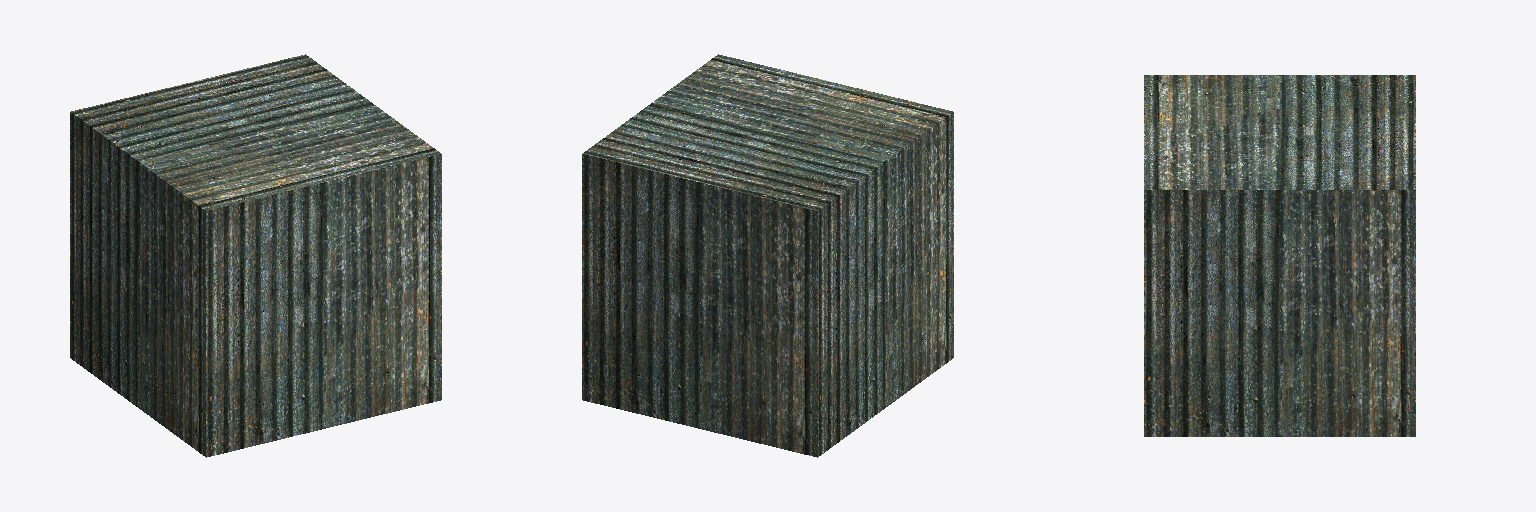
The picture shows the model from 3 angles: view 1: azimuth 30°, elevation 25°; view 2: azimuth 150°, elevation 25°; view 3: azimuth 270°, elevation 25°; orthographic projection.
Visible parts, largest first — view 1: Cube_Cube.001; view 2: Cube_Cube.001; view 3: Cube_Cube.001.
Part boxes in pixels (bbox=[...]): Cube_Cube.001: bbox=[70, 54, 441, 457]; Cube_Cube.001: bbox=[582, 54, 953, 457]; Cube_Cube.001: bbox=[1144, 75, 1415, 436].
Size of the model in its own units: 2 by 2 by 2.
Materials: 1 (1 with a texture image).